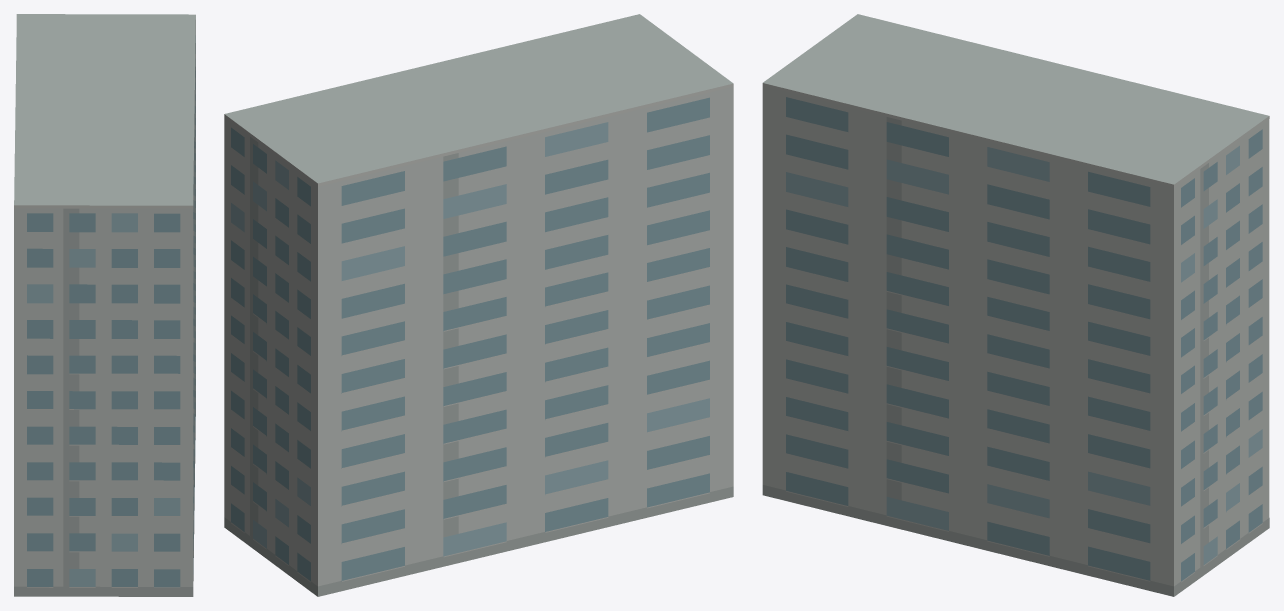
File: residential-d6657083-8134-4cbb-97fa-82d632f953c7.glb
3 renders of one model, left to right at view 1: azimuth 30°, elevation 25°; view 2: azimuth 150°, elevation 25°; view 3: azimuth 270°, elevation 25°, orthographic. The views are drawn at different scales.
Parts seen in each view (by area): view 1: residential-d6657083-8134-4cbb-97fa-82d632f953c7.tmp; view 2: residential-d6657083-8134-4cbb-97fa-82d632f953c7.tmp; view 3: residential-d6657083-8134-4cbb-97fa-82d632f953c7.tmp.
Boxes of the visible parts, left/top/right/bottom form: residential-d6657083-8134-4cbb-97fa-82d632f953c7.tmp: left=14, top=14, right=195, bottom=596; residential-d6657083-8134-4cbb-97fa-82d632f953c7.tmp: left=224, top=14, right=733, bottom=596; residential-d6657083-8134-4cbb-97fa-82d632f953c7.tmp: left=762, top=14, right=1269, bottom=596.
Size of the model in its own units: 27.53 by 31 by 34.55.
